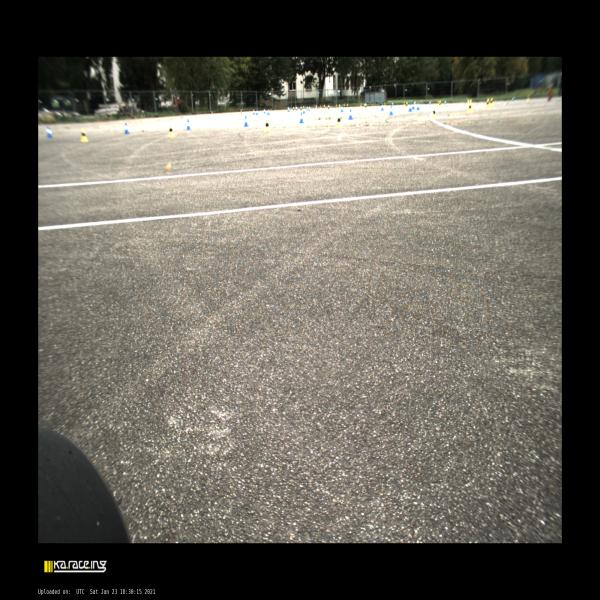blue_cone: (124, 122, 130, 133), (243, 116, 249, 126), (186, 119, 191, 130), (299, 112, 304, 123), (47, 128, 52, 138), (389, 105, 394, 115), (349, 109, 353, 120), (408, 103, 412, 112), (411, 102, 416, 109), (416, 102, 420, 110), (381, 103, 384, 111), (266, 109, 270, 115), (255, 109, 259, 115), (341, 105, 344, 112), (303, 106, 306, 113), (263, 108, 266, 113), (252, 109, 255, 114), (288, 106, 290, 112), (512, 96, 514, 102), (306, 106, 308, 110), (309, 106, 311, 110), (392, 102, 394, 106), (429, 101, 431, 105), (444, 100, 446, 104), (296, 106, 297, 111), (316, 105, 317, 109), (364, 103, 365, 107)
yellow_cone: (335, 112, 342, 128), (168, 124, 175, 138), (264, 118, 271, 132), (467, 100, 474, 113), (81, 129, 88, 141), (485, 98, 490, 110), (489, 96, 494, 108), (432, 107, 437, 119), (527, 95, 530, 100), (439, 100, 441, 107), (360, 102, 362, 108), (293, 106, 295, 112), (300, 106, 302, 112), (320, 104, 322, 110), (338, 103, 340, 109), (406, 102, 408, 108), (315, 105, 317, 110), (365, 103, 367, 108), (384, 102, 386, 107), (403, 101, 405, 106), (466, 100, 468, 105), (328, 104, 329, 112), (324, 104, 325, 110), (336, 104, 337, 110), (347, 103, 348, 109), (303, 105, 304, 110), (344, 104, 345, 109), (415, 101, 416, 106), (438, 100, 439, 105), (308, 108, 309, 112)
